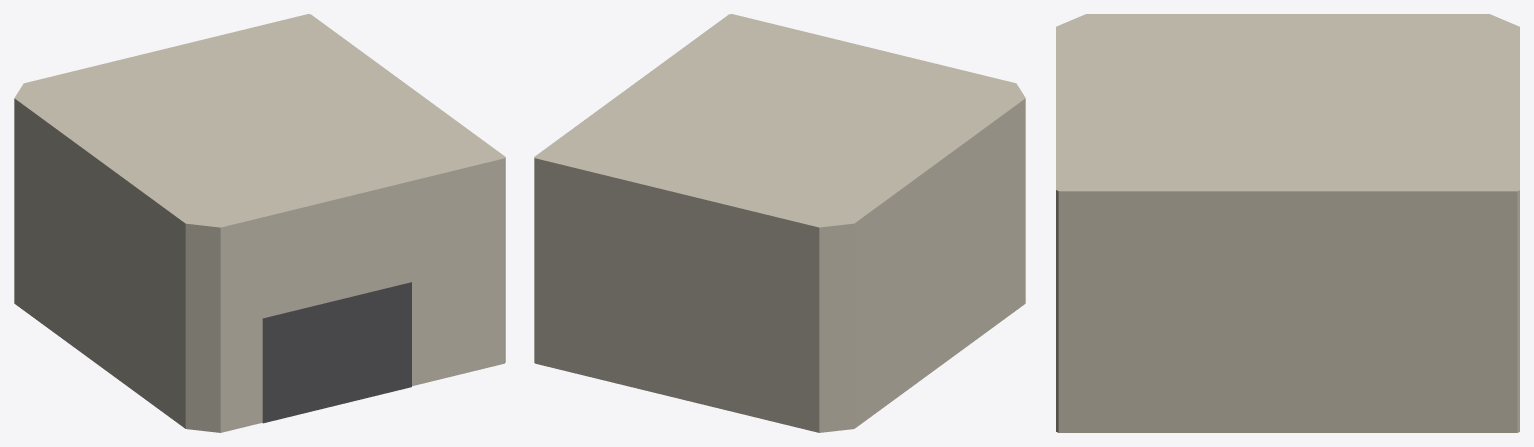
File: loin-etape-1.glb
The picture shows the model from 3 angles, left to right: view 1: azimuth 30°, elevation 25°; view 2: azimuth 150°, elevation 25°; view 3: azimuth 270°, elevation 25°; orthographic projection. The views are drawn at different scales.
Parts seen in each view (by area): view 1: loin; view 2: loin; view 3: loin.
Part boxes in pixels (bbox=[...]): loin: bbox=[14, 14, 505, 432]; loin: bbox=[534, 14, 1025, 432]; loin: bbox=[1056, 14, 1519, 432].
Size of the model in its own units: 0.7143 by 0.4546 by 0.7937.
